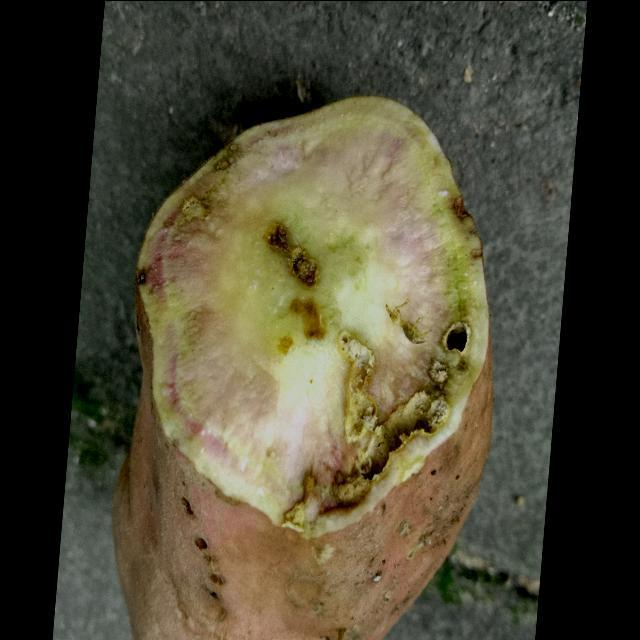Sick Sweet Potato_Tuber Rot: (138, 95, 489, 535)
